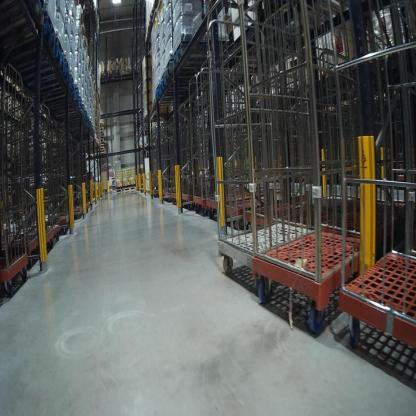pallet: (6, 19, 61, 65), (21, 60, 77, 103), (9, 47, 67, 83), (171, 35, 228, 70), (2, 2, 46, 41), (26, 88, 83, 117), (165, 62, 209, 82), (161, 75, 209, 92), (150, 92, 195, 107), (156, 87, 191, 101), (123, 186, 138, 195), (110, 186, 123, 195), (101, 190, 110, 195), (98, 151, 106, 156), (100, 123, 105, 128), (98, 150, 106, 153), (100, 147, 106, 151), (100, 139, 106, 143), (100, 143, 105, 147), (100, 136, 105, 139), (100, 133, 105, 136), (100, 128, 104, 131), (100, 131, 104, 133)
